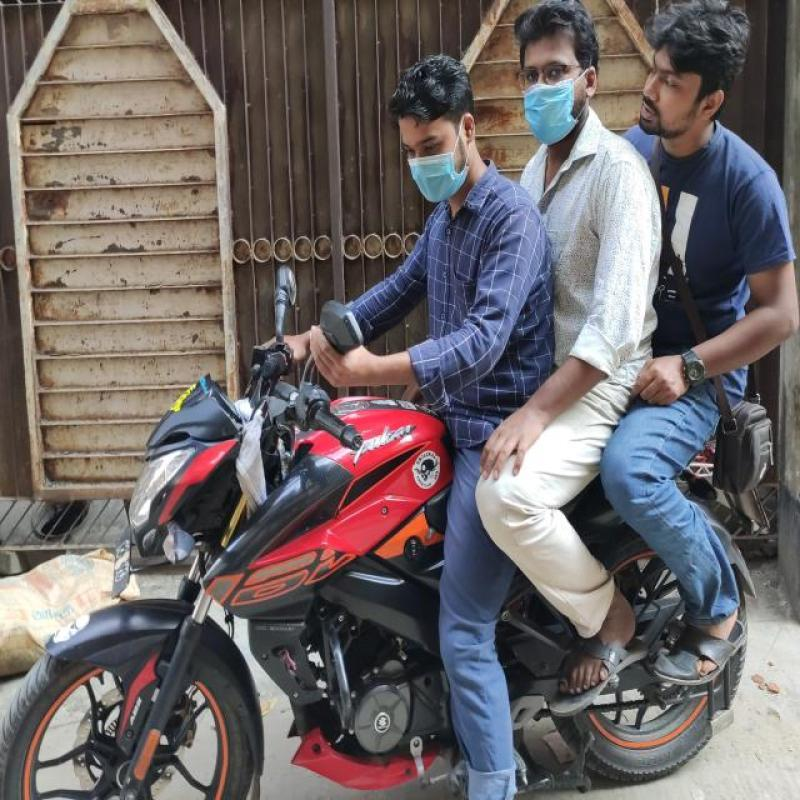nohelmet: (640, 4, 762, 145), (388, 64, 473, 207), (510, 4, 596, 145)
